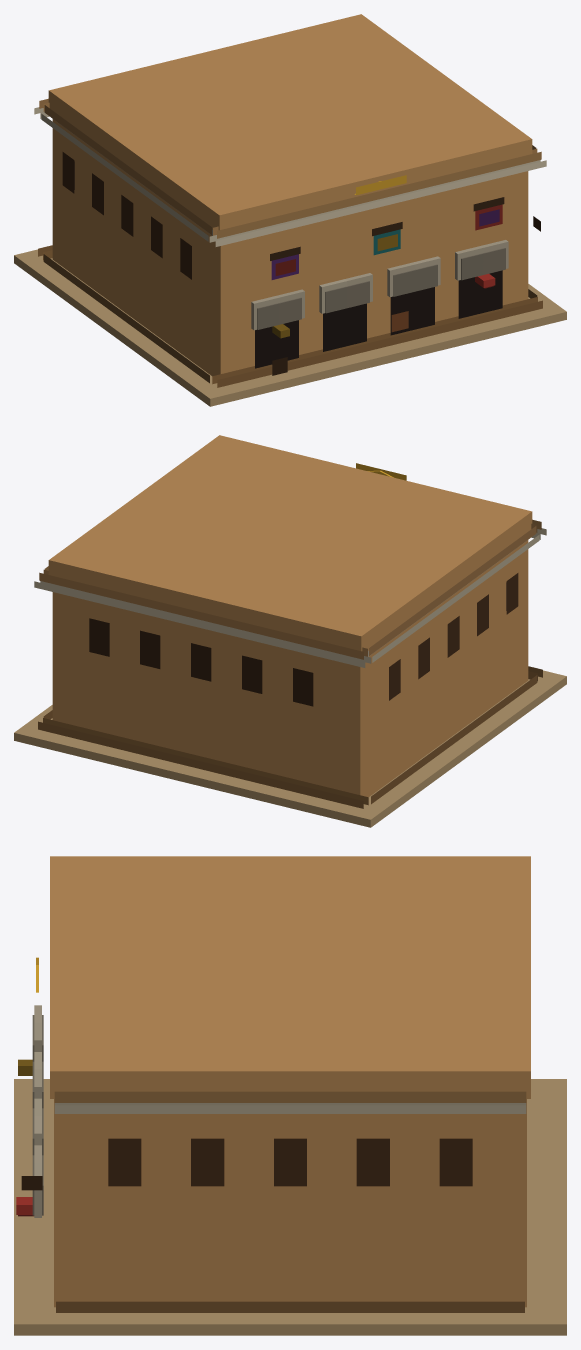
The model's file is GreatSphinxSil.fbx.
The picture shows the model from 3 angles, top to bottom: view 1: azimuth 30°, elevation 25°; view 2: azimuth 150°, elevation 25°; view 3: azimuth 270°, elevation 25°; orthographic projection. The views are drawn at different scales.
Visible parts, largest first — view 1: BZ_S_All; view 2: BZ_S_All; view 3: BZ_S_All.
Boxes of the visible parts, x1,y1,x2,y2 form: BZ_S_All: (14, 14, 566, 406); BZ_S_All: (14, 435, 566, 827); BZ_S_All: (14, 856, 566, 1335).
Bounding box in the file's own units: 42.04 × 19.9 × 40.04.
